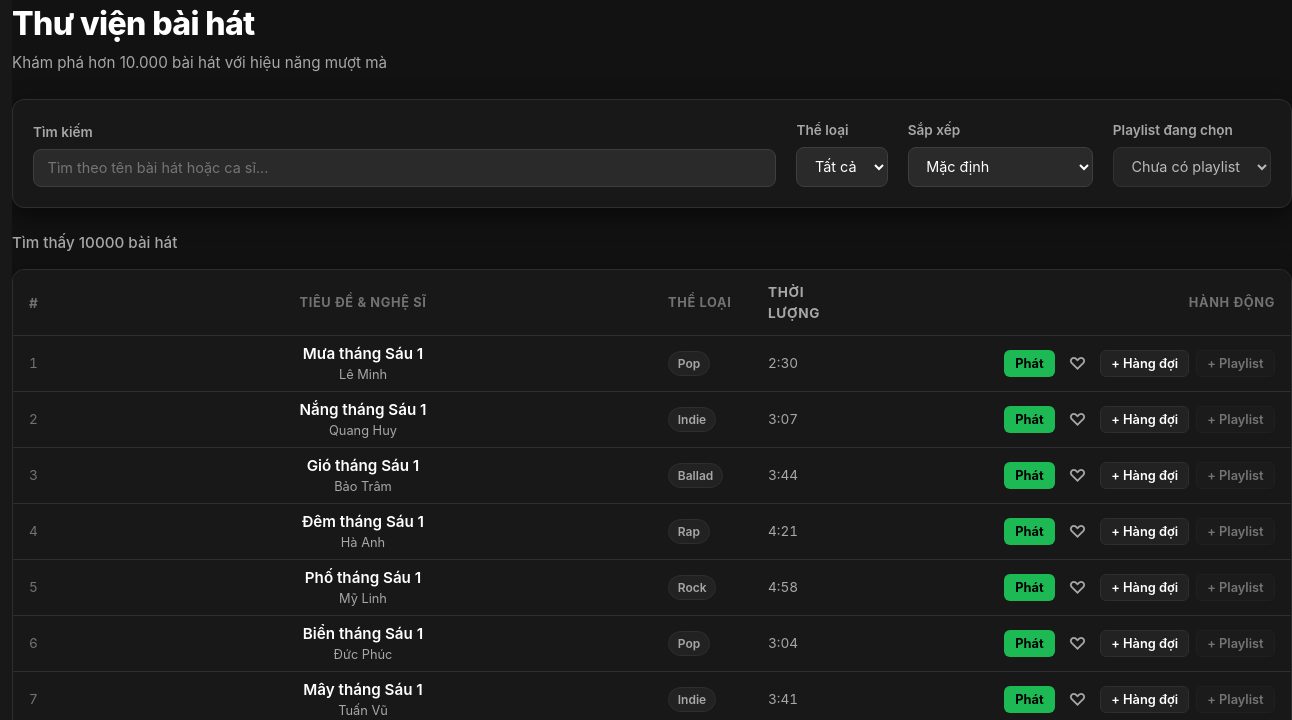
Kiểm thử component LibraryPage › sắp xếp theo Tên A–Z với bộ lọc trống thì dòng đầu tiên là "Biển bình yên 1"
Select "Tên A–Z" in the dropdown labelled "Sắp xếp": (1000, 167) [908, 147, 1093, 187]
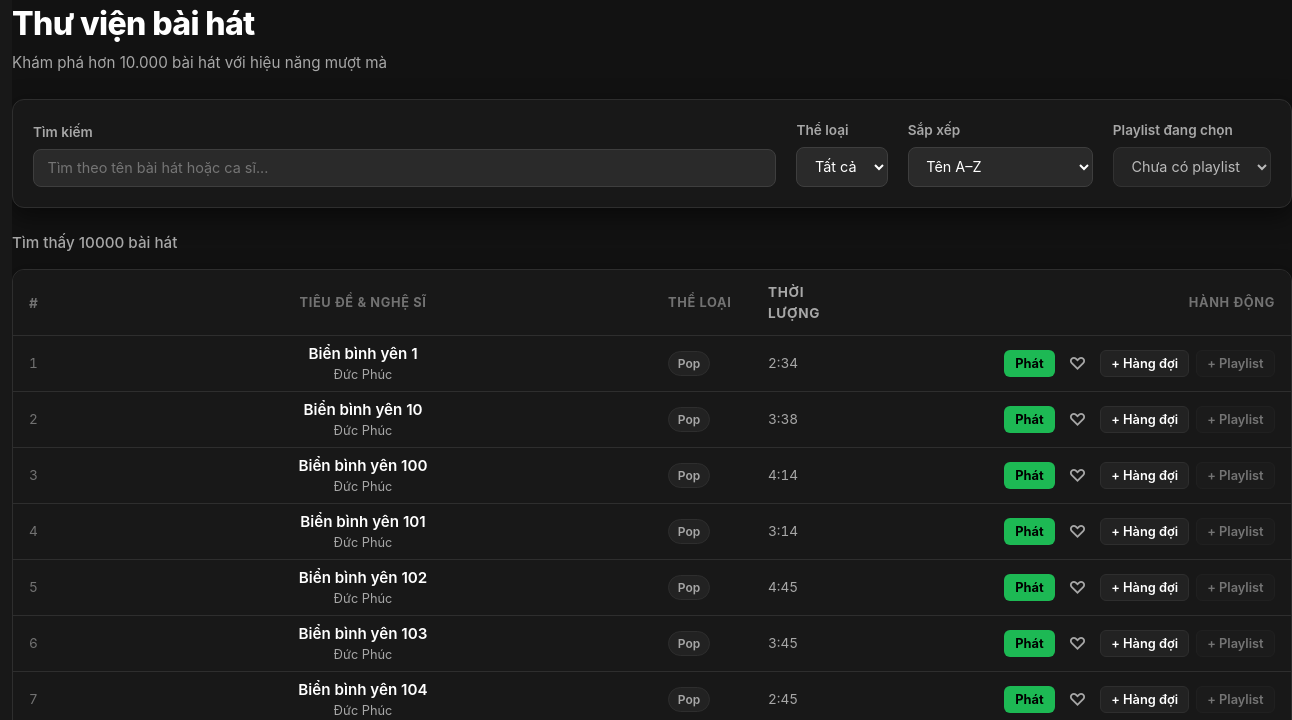
Check: the text "Biển bình yên 1" is shown, box [308, 343, 418, 365]
